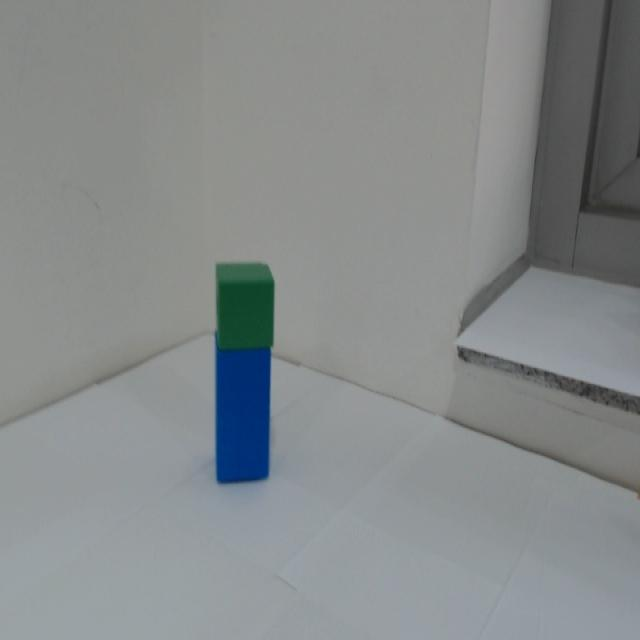cube: (209, 350, 283, 518), (206, 254, 286, 352)
